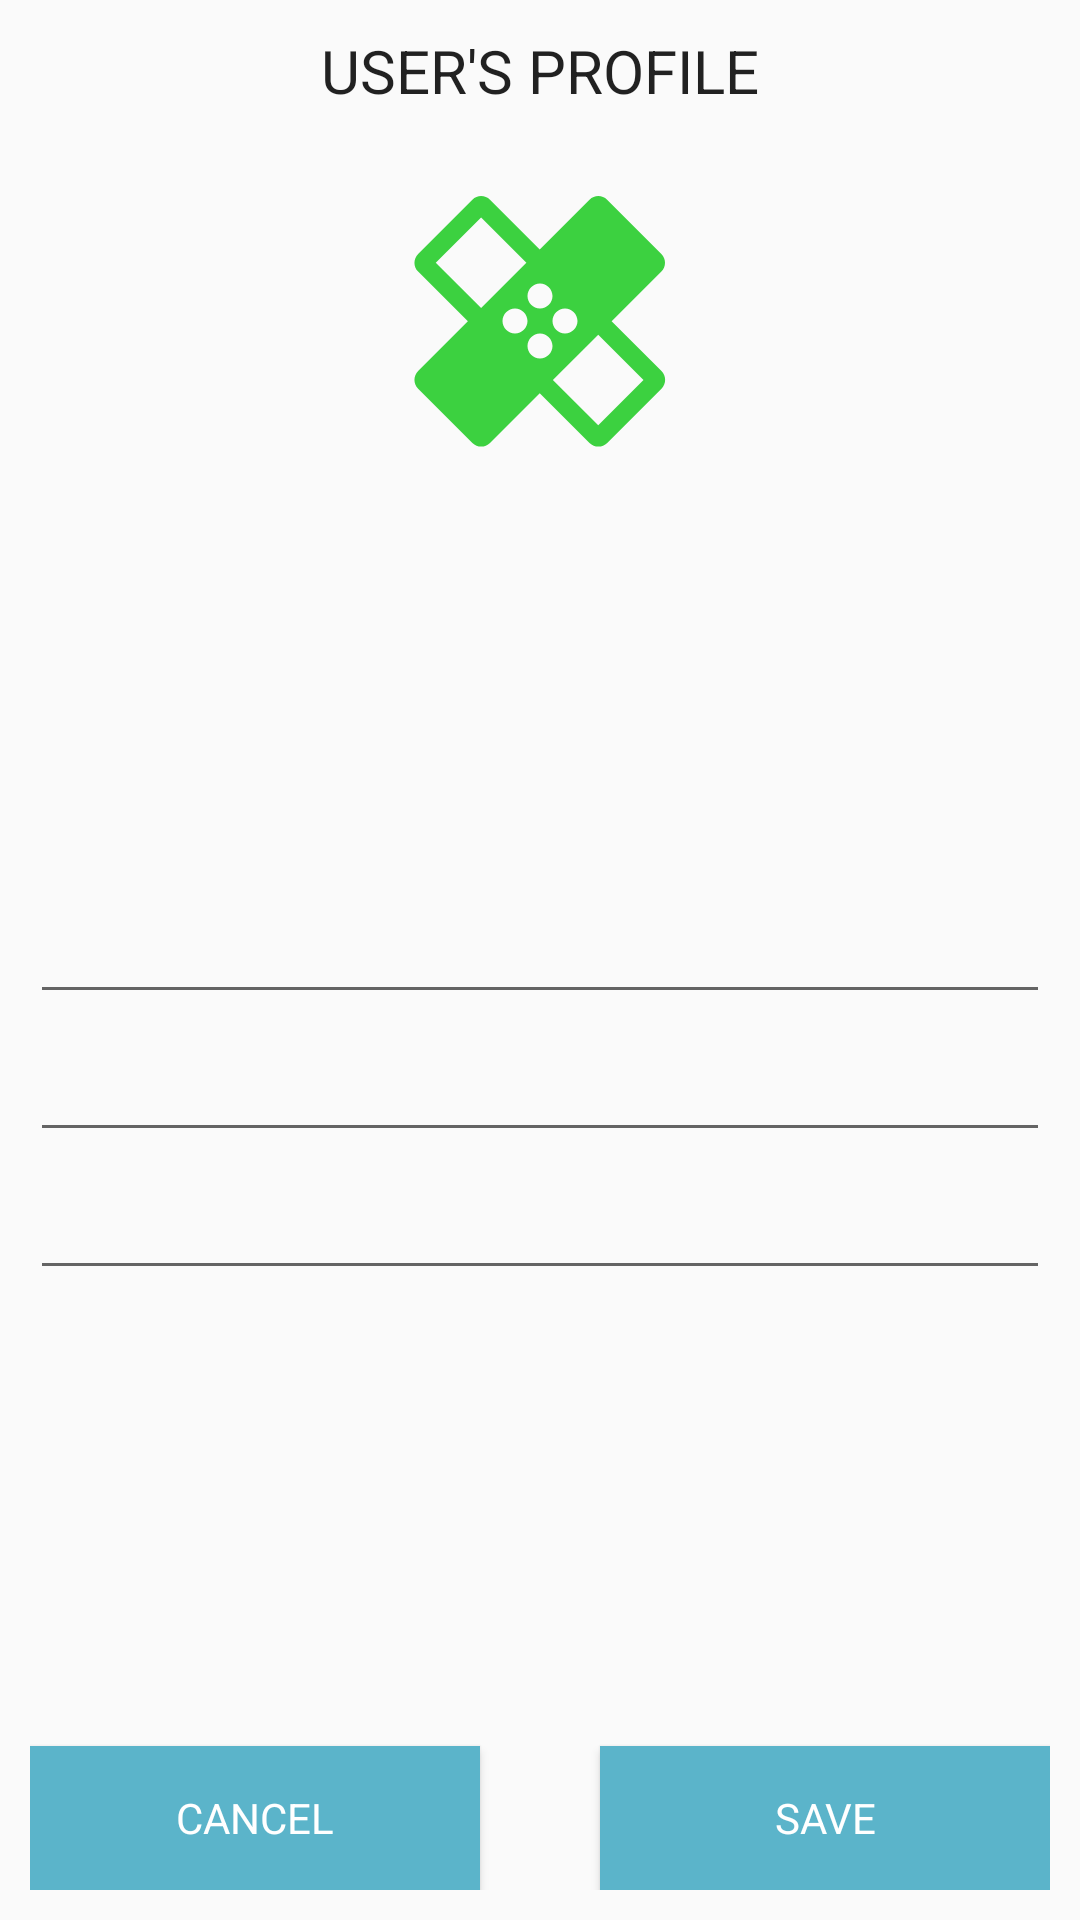

Named icons in this screenshot (1080w x 1920h) and their bounding boxes, box(x1, y1, x2, y2):
healing: box(414, 196, 665, 447)
